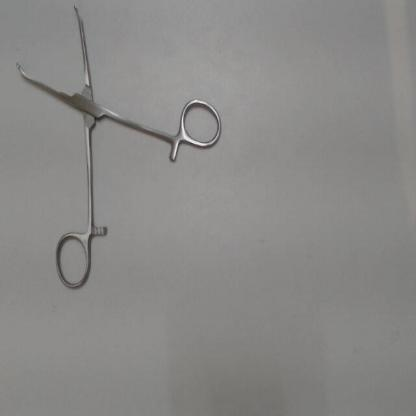Allis Tissue Forceps: (10, 2, 225, 296)
